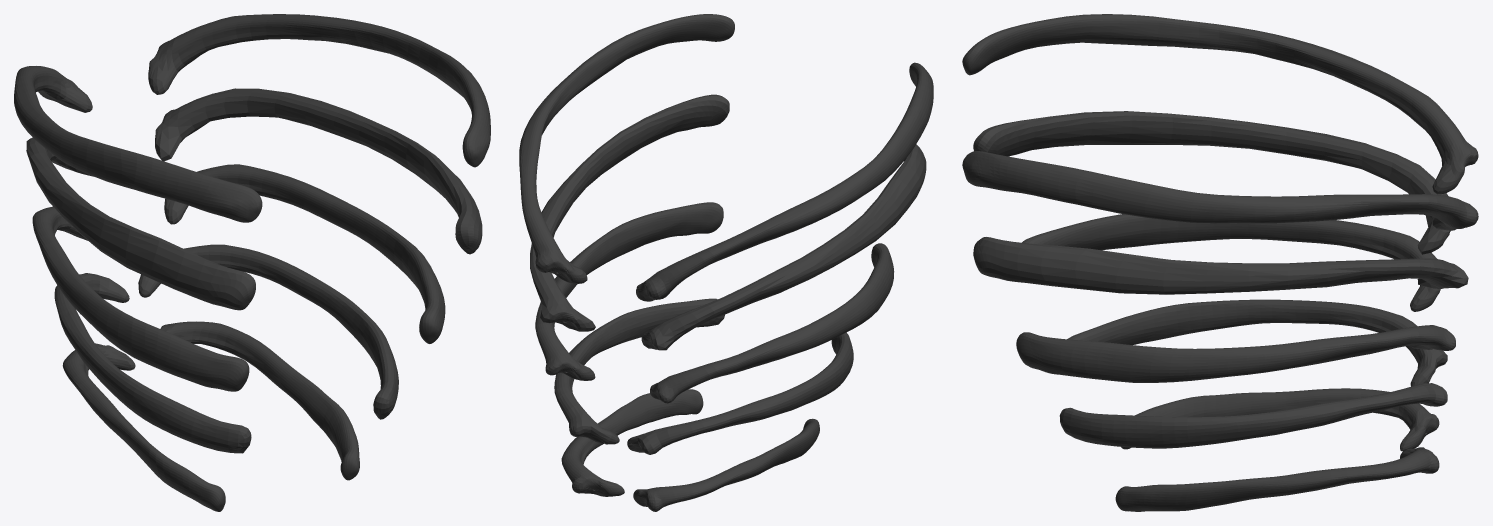
The model's file is B_Ribs.glb.
3 renders of one model, left to right at view 1: azimuth 30°, elevation 25°; view 2: azimuth 150°, elevation 25°; view 3: azimuth 270°, elevation 25°, orthographic. The views are drawn at different scales.
Visible parts, largest first — view 1: B_Ribs; view 2: B_Ribs; view 3: B_Ribs.
Part boxes in pixels (x1,y1,x2,y2): B_Ribs: (14, 14, 490, 511); B_Ribs: (519, 14, 933, 511); B_Ribs: (962, 14, 1478, 511).
Size of the model in its own units: 0.00773 by 0.00775 by 0.00934.
Materials: 1 (1 with a texture image).
